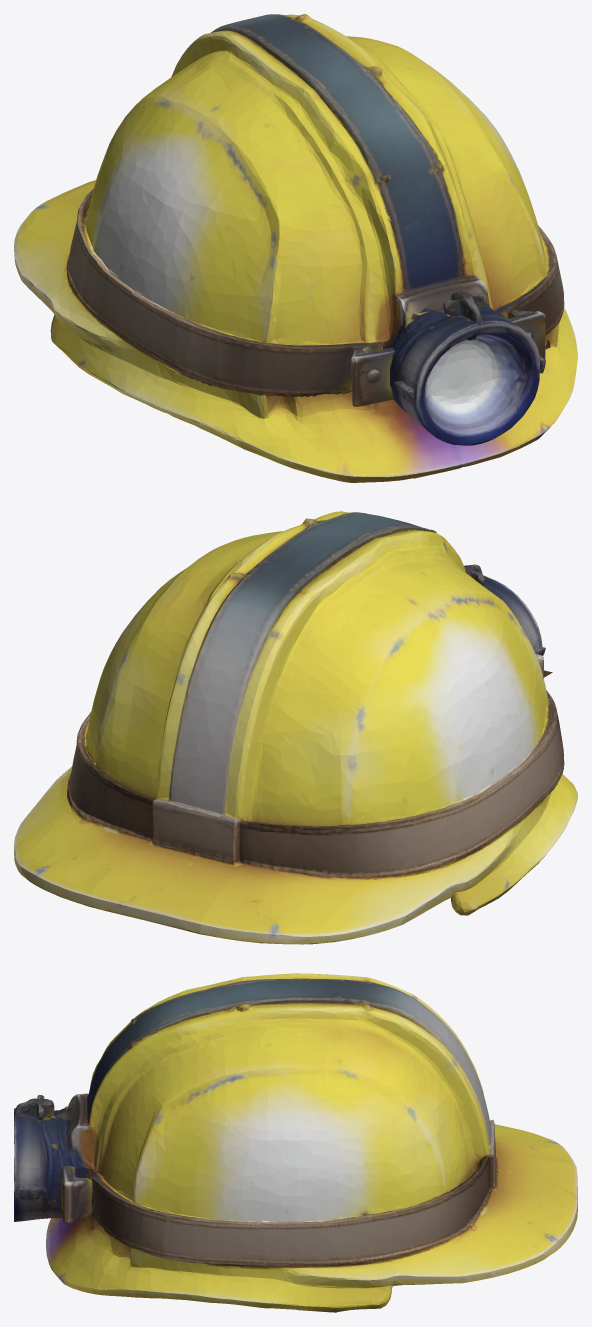
The model's file is casco_1.glb.
3 renders of one model, top to bottom at view 1: azimuth 30°, elevation 25°; view 2: azimuth 150°, elevation 25°; view 3: azimuth 270°, elevation 25°, orthographic. The views are drawn at different scales.
Visible parts, largest first — view 1: geometry_0; view 2: geometry_0; view 3: geometry_0.
Boxes of the visible parts, left/top/right/bottom form: geometry_0: left=14, top=14, right=577, bottom=482; geometry_0: left=14, top=511, right=577, bottom=944; geometry_0: left=14, top=973, right=577, bottom=1312.
Size of the model in its own units: 0.7359 by 0.5118 by 1.
Materials: 1 (1 with a texture image).
